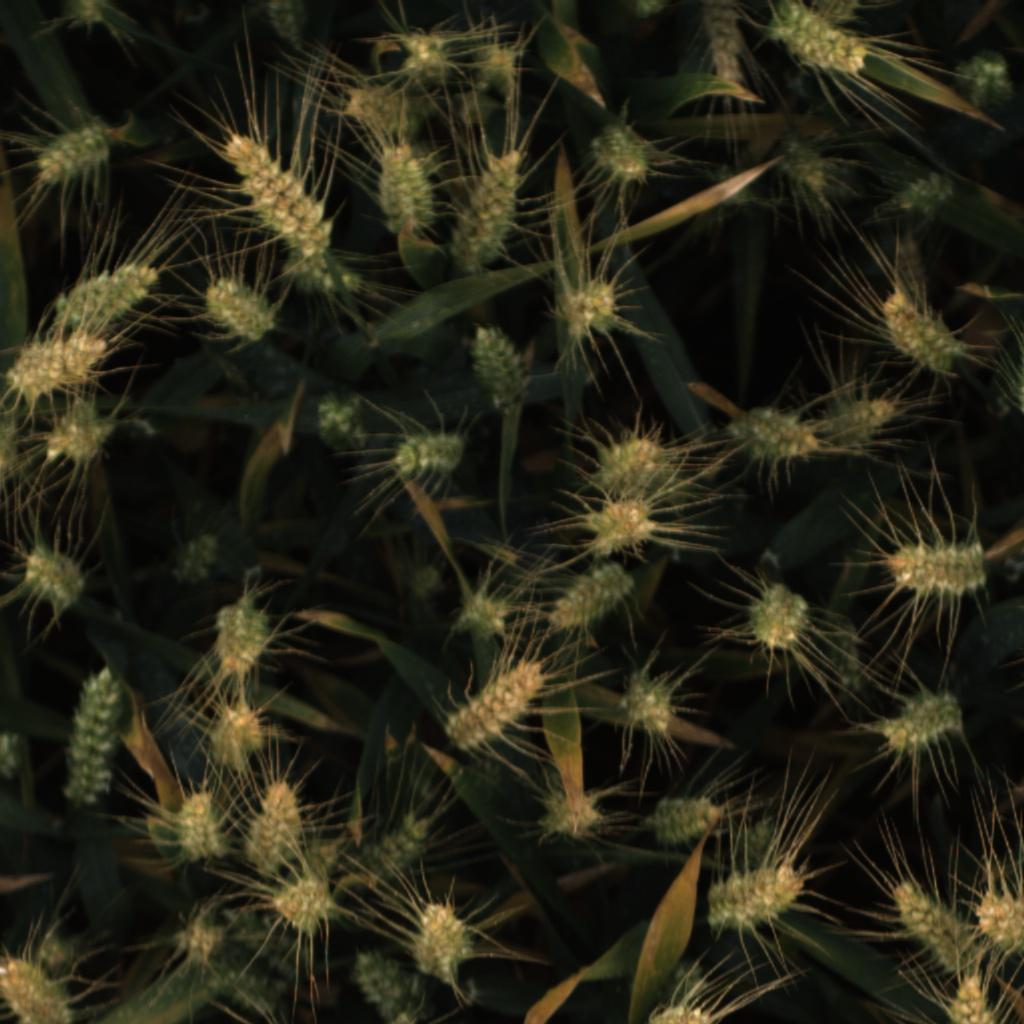0-0: (216, 130, 339, 260), (446, 143, 531, 272), (442, 652, 548, 754), (62, 665, 134, 807), (877, 285, 969, 378), (55, 253, 162, 331), (768, 0, 874, 78), (22, 110, 124, 188), (10, 331, 113, 405), (883, 873, 964, 967), (548, 557, 643, 636), (879, 535, 992, 601), (219, 904, 315, 981), (701, 862, 806, 932), (371, 135, 440, 240), (238, 775, 306, 879), (873, 687, 967, 761), (727, 401, 821, 473), (463, 322, 535, 415), (197, 271, 283, 347), (411, 892, 475, 986), (350, 941, 423, 1023), (693, 1, 751, 102), (201, 600, 275, 677), (198, 694, 268, 774), (362, 808, 442, 876), (593, 430, 674, 497), (0, 951, 74, 1024), (737, 580, 810, 654), (20, 538, 93, 611), (271, 870, 347, 940), (201, 957, 289, 1017), (554, 271, 625, 345), (38, 403, 116, 470), (578, 494, 663, 555), (382, 424, 467, 484), (305, 384, 372, 455), (608, 670, 679, 737), (333, 75, 409, 136), (585, 119, 654, 186), (824, 397, 903, 453), (393, 19, 458, 87), (966, 882, 1024, 958), (287, 247, 367, 301), (166, 907, 233, 971), (644, 793, 721, 848), (175, 790, 226, 868), (467, 32, 527, 98), (449, 583, 519, 637), (888, 171, 961, 220), (167, 526, 226, 586), (937, 972, 1004, 1024), (954, 52, 1012, 111), (825, 616, 867, 692), (774, 136, 833, 190), (547, 787, 605, 841), (735, 812, 783, 866), (630, 996, 718, 1024), (263, 0, 308, 48), (663, 956, 707, 1000), (31, 928, 77, 970), (297, 841, 341, 883), (0, 412, 25, 483), (405, 562, 448, 600), (63, 0, 105, 33), (814, 0, 867, 26), (1, 728, 24, 783), (629, 0, 667, 20), (386, 1009, 419, 1024)
